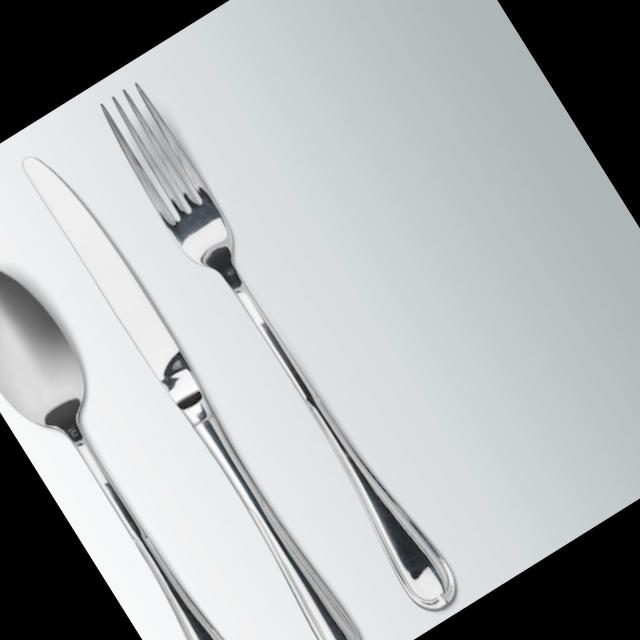fork: (86, 69, 472, 630)
